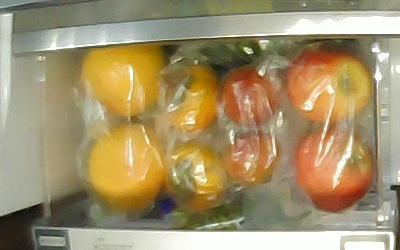apple_vinyl: (293, 129, 373, 214), (284, 49, 373, 125)
grapefruit_vinyl: (90, 124, 164, 211), (83, 43, 164, 118)
persimmon_vinyl: (164, 142, 224, 212), (157, 66, 219, 133)
prune_vinyl: (222, 68, 280, 127), (223, 130, 280, 185)
